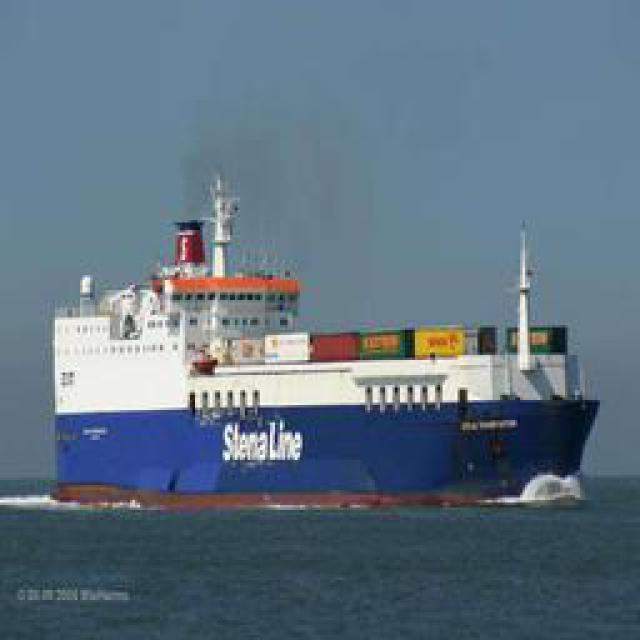Ship: (36, 170, 601, 503)
